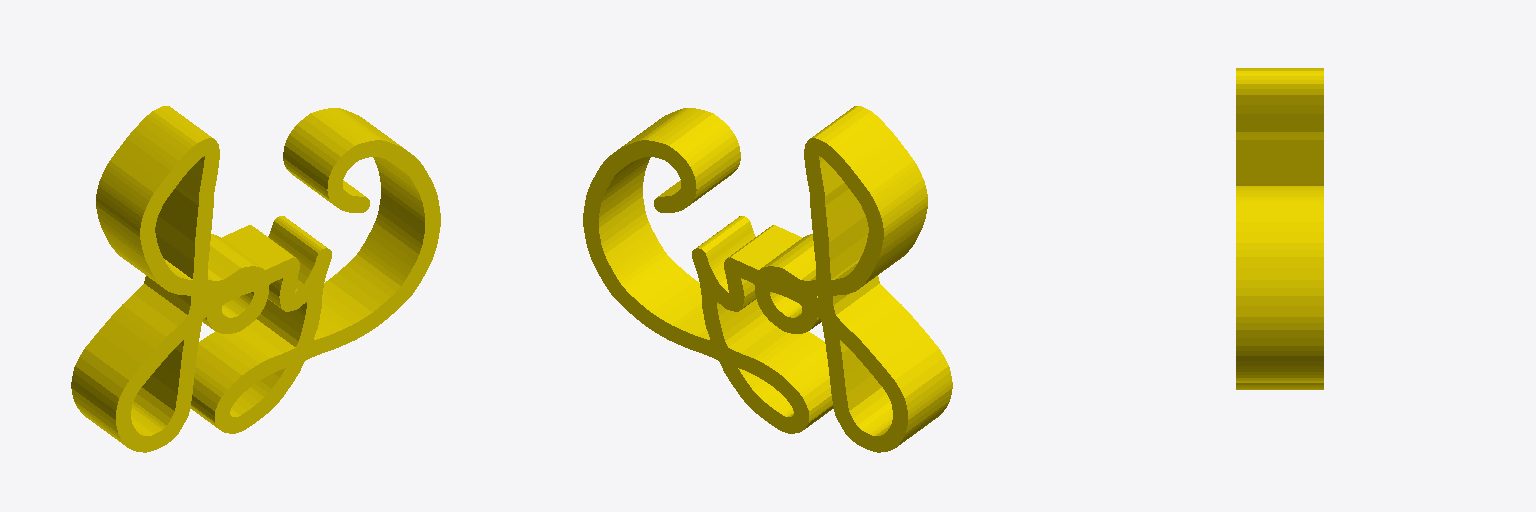
File: tinker.obj
3 views of the same model, side by side, from view 1: azimuth 30°, elevation 25°; view 2: azimuth 150°, elevation 25°; view 3: azimuth 270°, elevation 25° (orthographic).
Visible parts, largest first — view 1: obj_0; view 2: obj_0; view 3: obj_0.
Boxes of the visible parts, <box> form: obj_0: <box>71,106,440,452</box>; obj_0: <box>583,106,952,452</box>; obj_0: <box>1236,68,1323,389</box>.
Bounding box in the file's own units: 42.39 × 37.63 × 10.